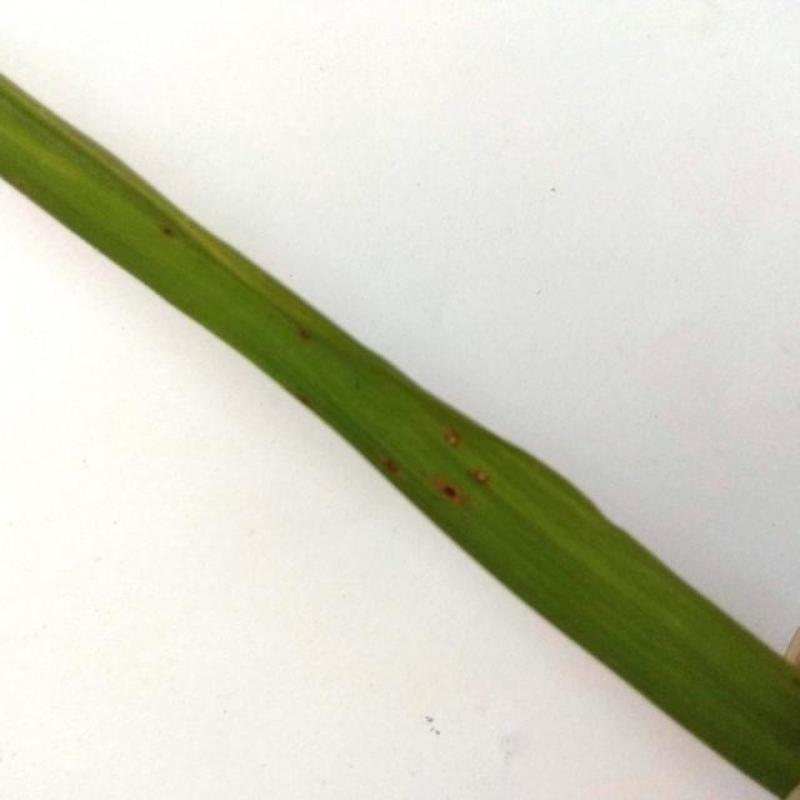Leaf_Blast: (399, 410, 509, 518)
